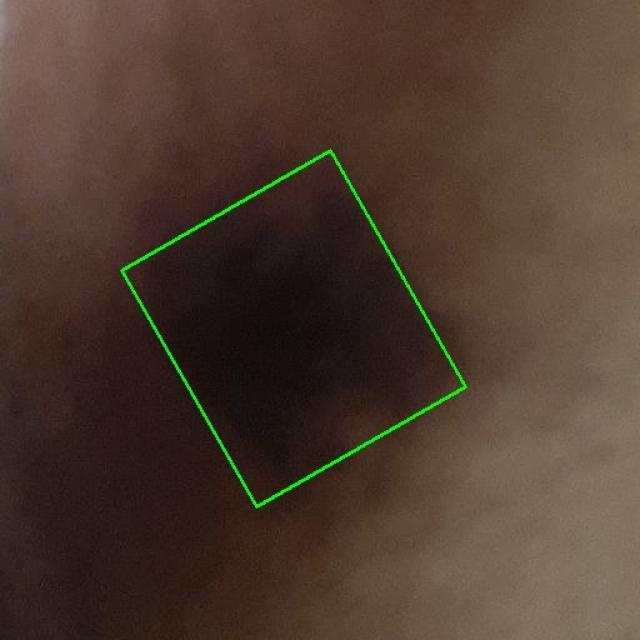Contact Dermatitis: (121, 151, 466, 507)
